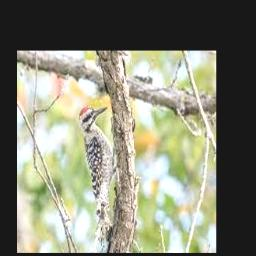Woodpecker: (79, 106, 116, 253)
